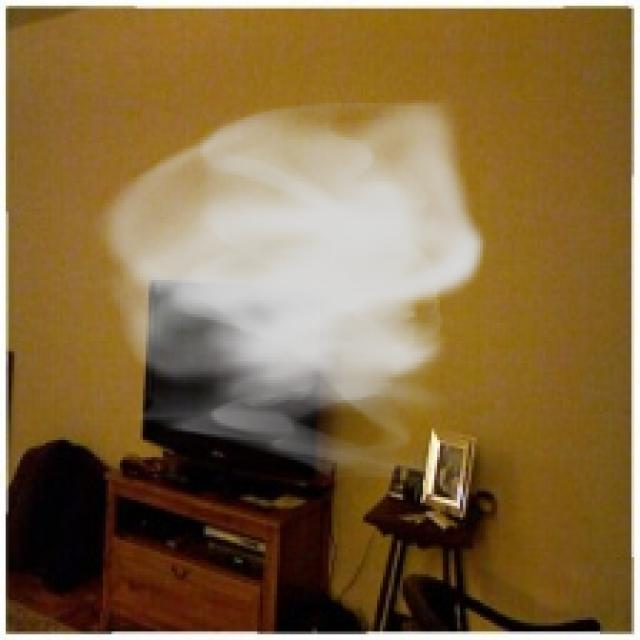Smoke: (89, 88, 488, 483)
